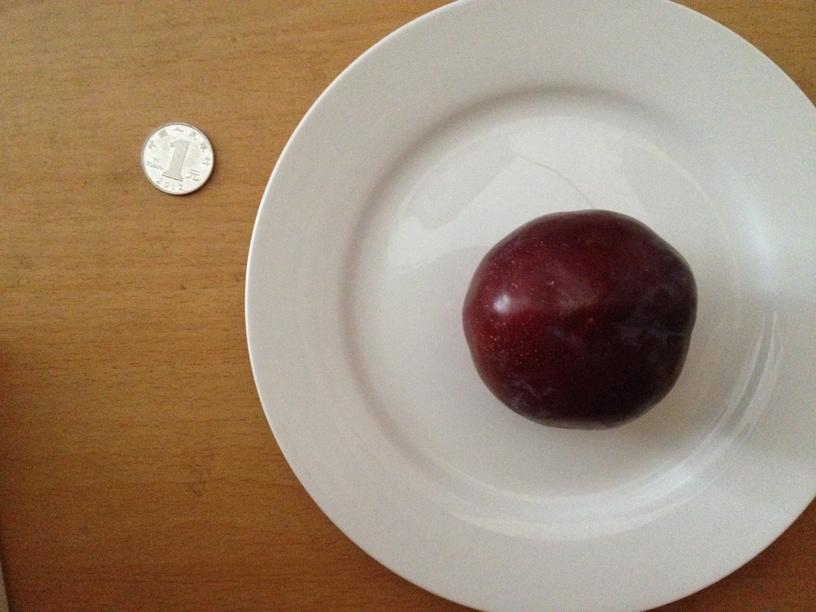coin: (138, 122, 214, 193)
plum: (464, 210, 696, 433)
